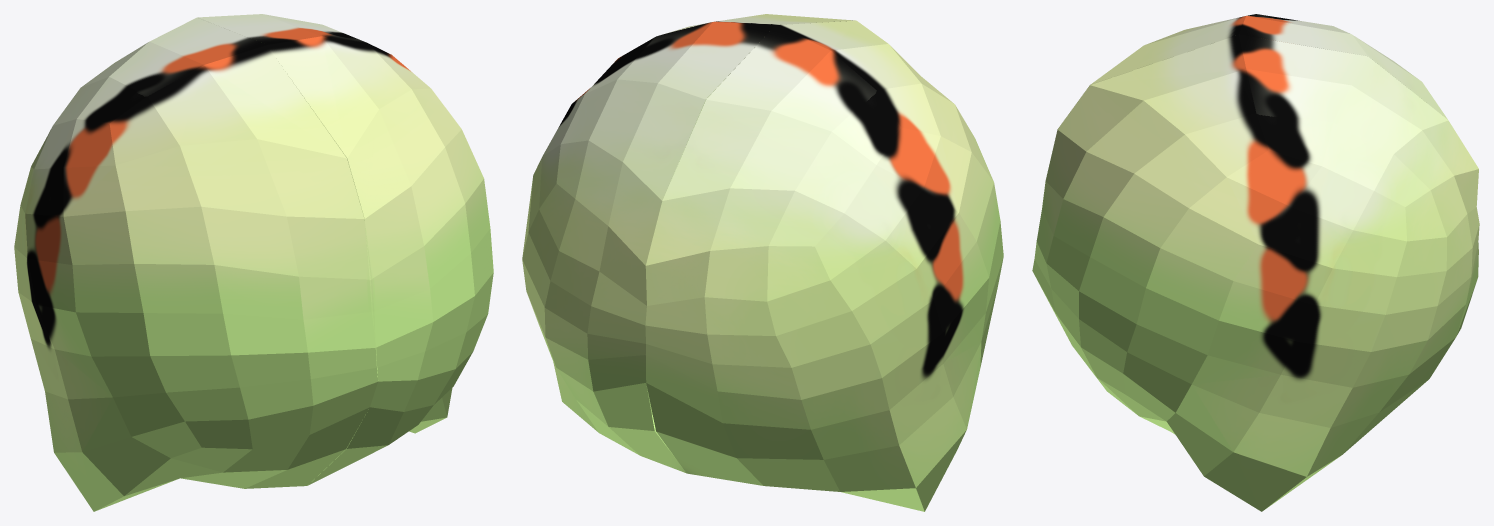
The model's file is catterpiller.fbx.
3 renders of one model, left to right at view 1: azimuth 30°, elevation 25°; view 2: azimuth 150°, elevation 25°; view 3: azimuth 270°, elevation 25°, orthographic. The views are drawn at different scales.
Parts seen in each view (by area): view 1: Sphere; view 2: Sphere; view 3: Sphere.
Part boxes in pixels (left/top/right/bottom): Sphere: left=14, top=14, right=493, bottom=511; Sphere: left=522, top=14, right=1003, bottom=511; Sphere: left=1032, top=14, right=1479, bottom=511.
Bounding box in the file's own units: 191 × 197 × 198.
Materials: 1 (1 with a texture image).
